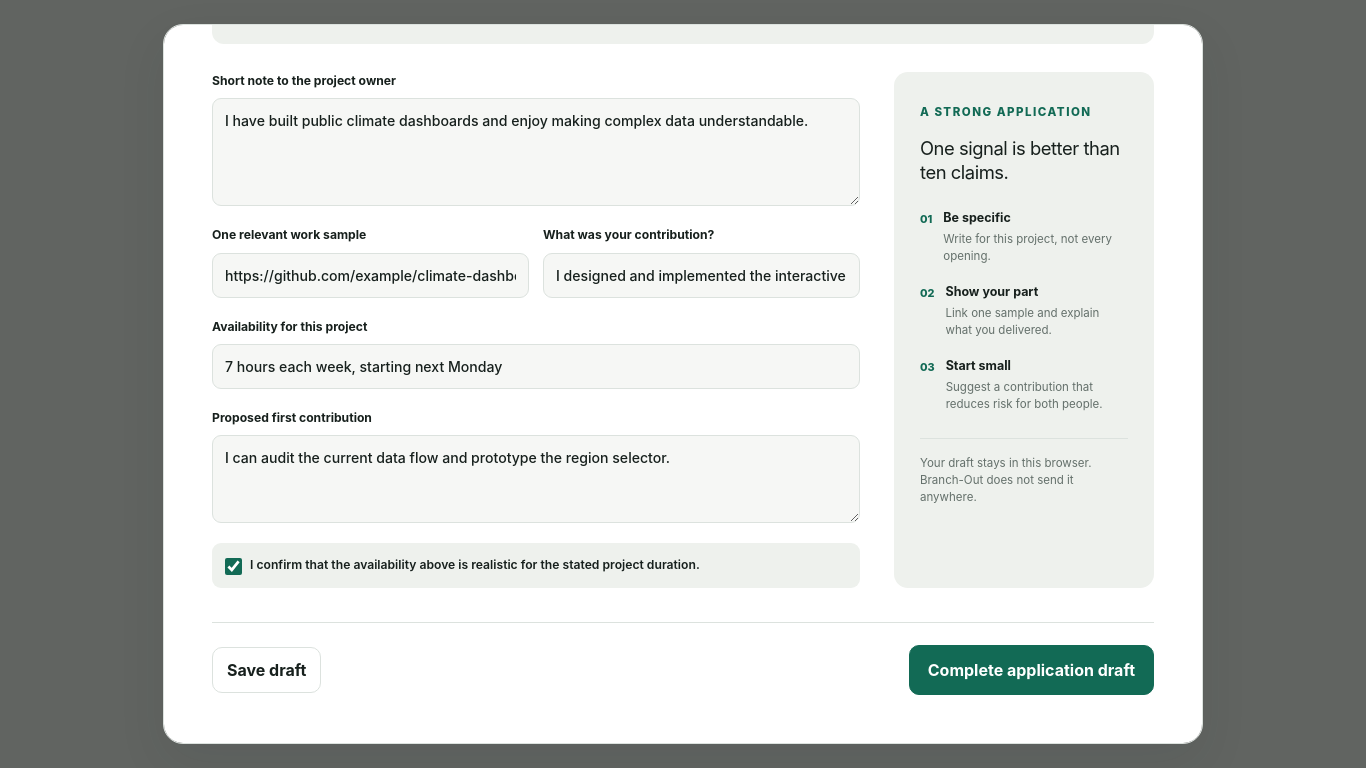
Test case: ProofApplicationPanel › completes a valid application without claiming it was sent
(page scrolled)
Click the button "Complete application draft" at (1031, 670), box [909, 645, 1154, 695]
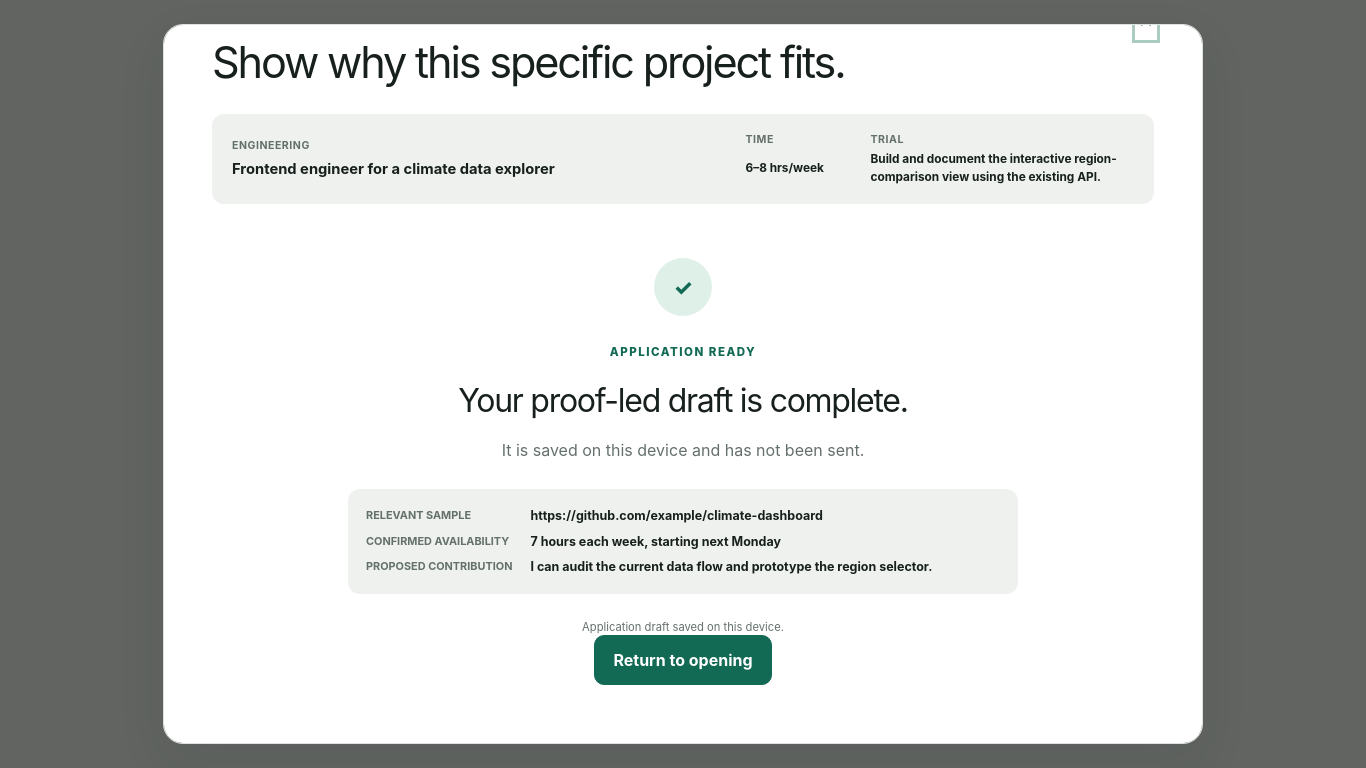
Now the message shows "Application ready", box [610, 345, 756, 359]
Now the message shows "has not been sent", box [502, 440, 864, 460]
Now the text "I can audit the current data flow and prototype the region selector." is shown, box [530, 558, 1000, 576]
